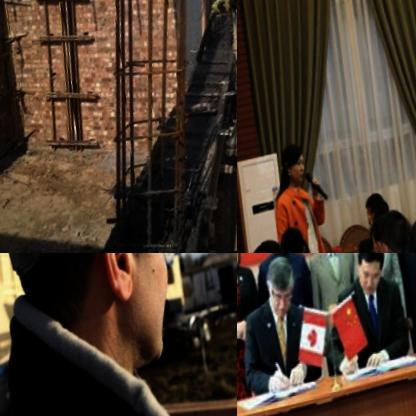head: (260, 253, 304, 318), (348, 253, 393, 298), (374, 211, 416, 253), (277, 138, 311, 188), (362, 187, 391, 228), (365, 213, 394, 253), (279, 225, 310, 253), (246, 239, 293, 253), (369, 201, 389, 226)
helmet: (0, 253, 232, 412)
